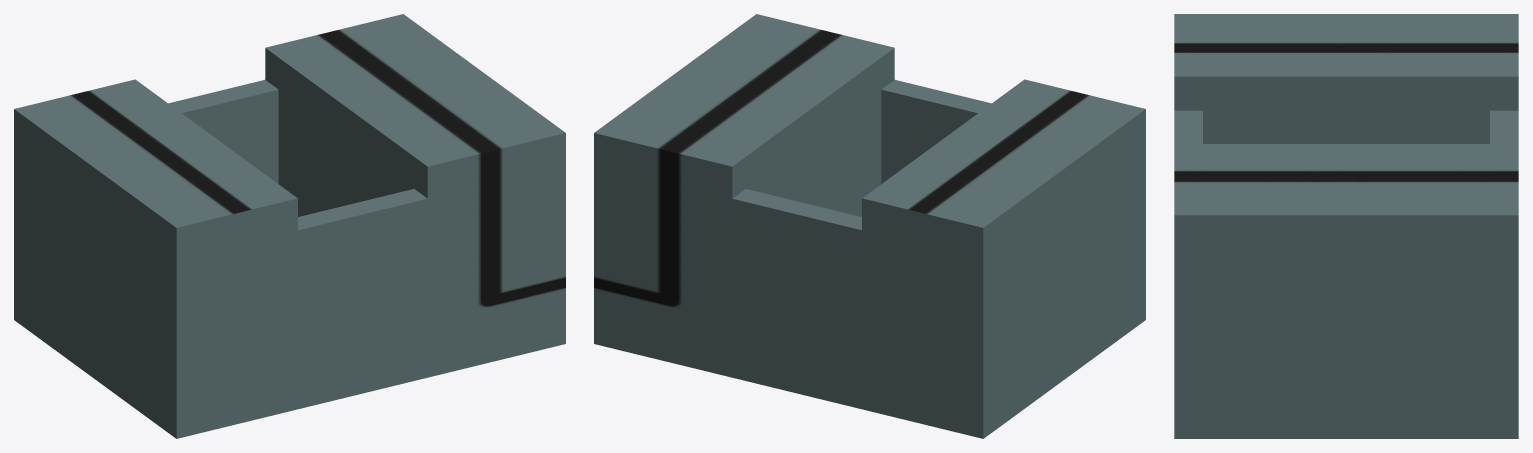
The model's file is Basecar_Cabin.fbx.
3 views of the same model, side by side, from view 1: azimuth 30°, elevation 25°; view 2: azimuth 150°, elevation 25°; view 3: azimuth 270°, elevation 25° (orthographic). The views are drawn at different scales.
Parts seen in each view (by area): view 1: Basecar_Cabin; view 2: Basecar_Cabin; view 3: Basecar_Cabin.
Boxes of the visible parts, box(x1,y1,x2,y2) form: Basecar_Cabin: box(14, 14, 565, 438); Basecar_Cabin: box(594, 14, 1145, 438); Basecar_Cabin: box(1174, 14, 1518, 438).
Size of the model in its own units: 144 by 74.82 by 104.
